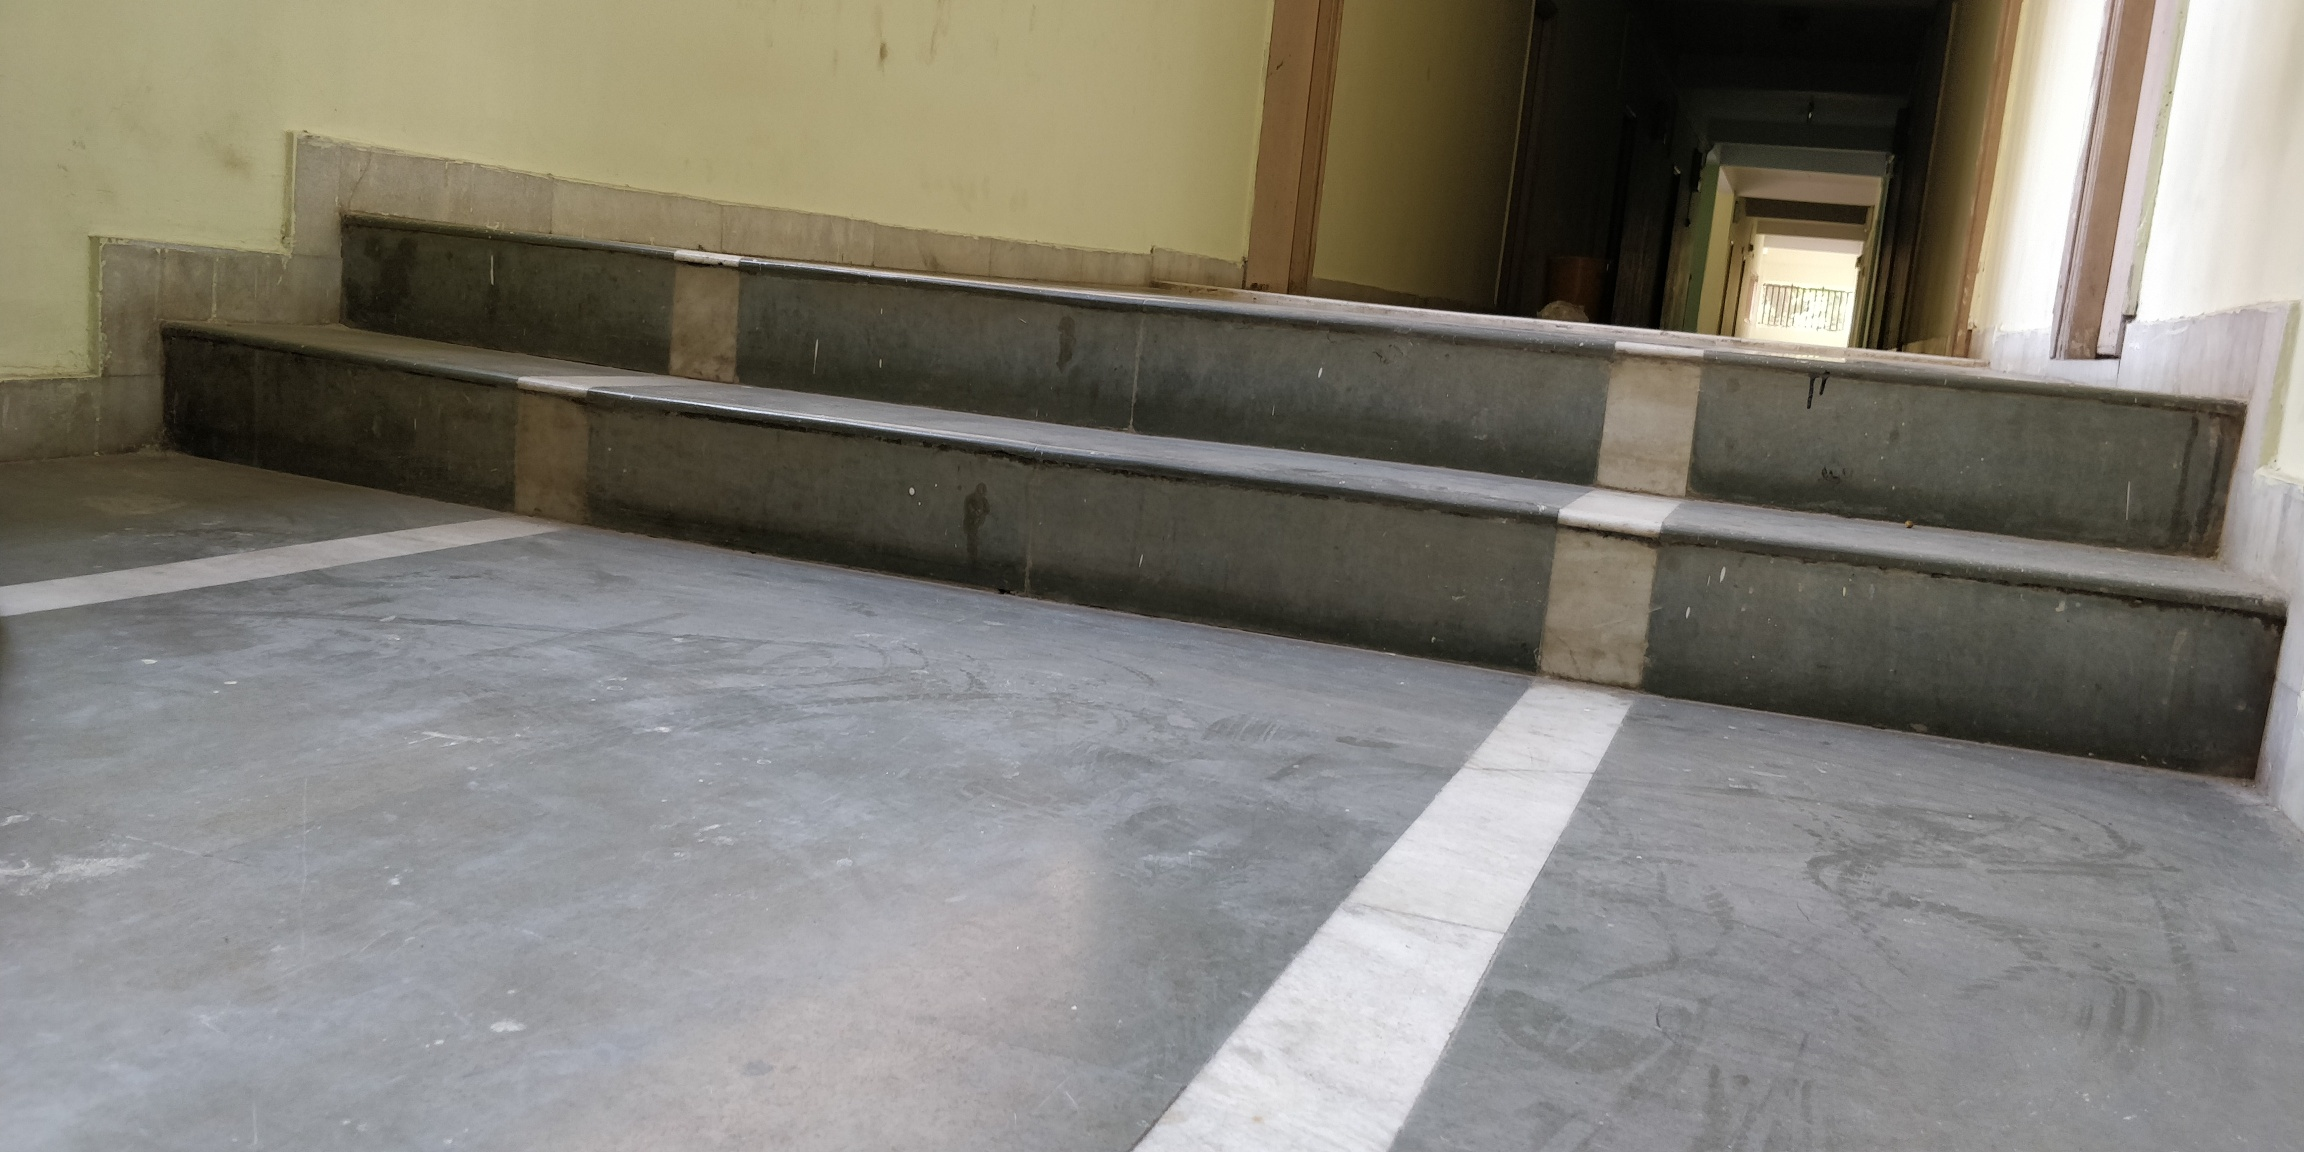stairs_up: (264, 272, 2157, 561)
